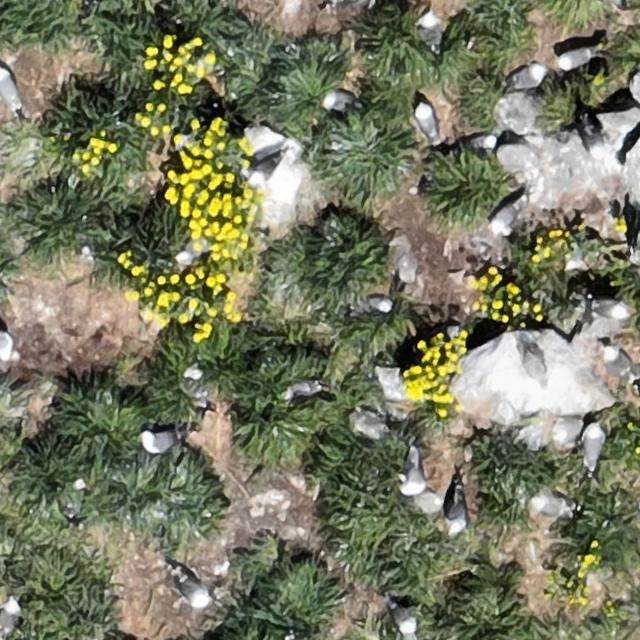umineko: (490, 192, 532, 236), (580, 110, 610, 161), (522, 342, 554, 389), (396, 452, 426, 497), (177, 574, 211, 607), (0, 68, 21, 111), (509, 63, 543, 87), (390, 603, 416, 634), (446, 494, 466, 534), (583, 428, 603, 468), (606, 352, 634, 380), (415, 104, 436, 140), (250, 156, 279, 182), (142, 432, 178, 452), (420, 15, 440, 51), (560, 48, 594, 68), (597, 302, 630, 322), (1, 600, 20, 634), (287, 379, 319, 398), (537, 495, 567, 515), (323, 91, 354, 110), (364, 296, 392, 312)
